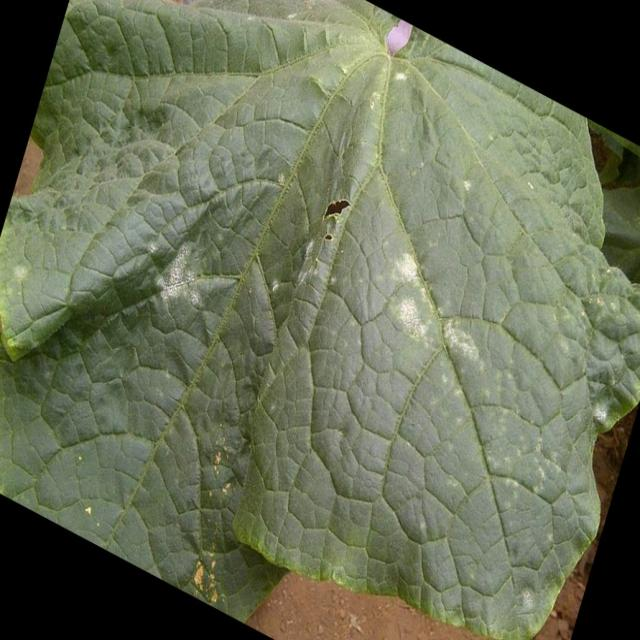Powdery Mildew: (2, 1, 637, 637)
